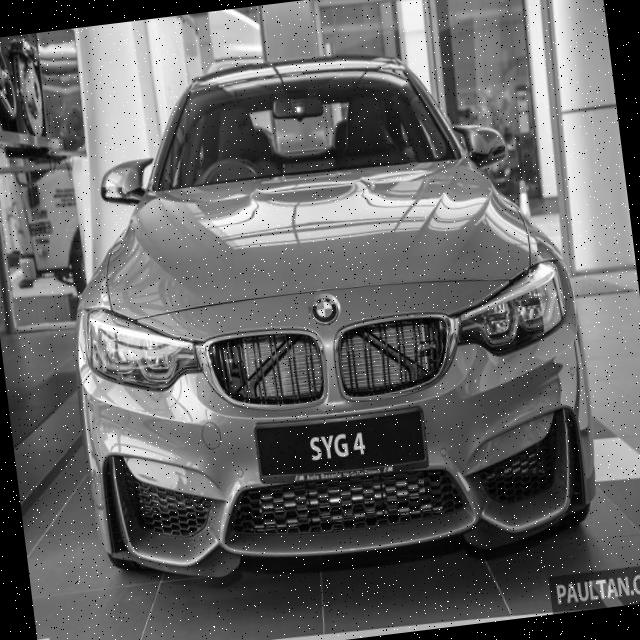License_Plate: (250, 400, 435, 491)
car: (52, 26, 612, 601)
